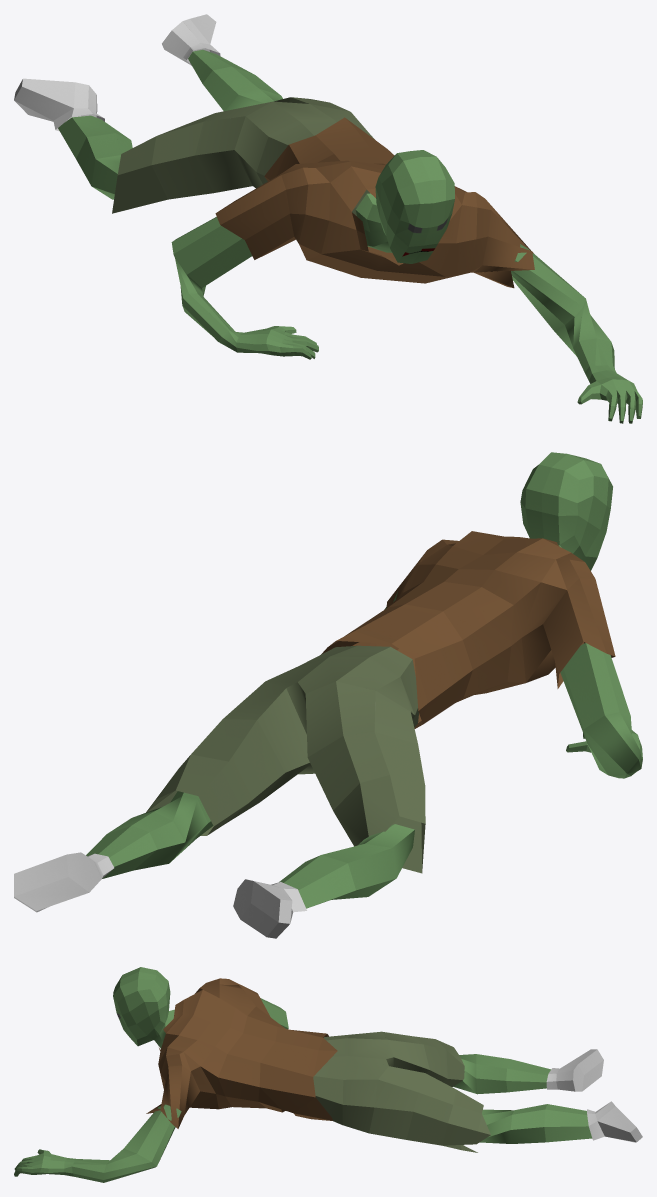
Rendered from ZombieCrawl(122).obj.
The picture shows the model from 3 angles, top to bottom: view 1: azimuth 30°, elevation 25°; view 2: azimuth 150°, elevation 25°; view 3: azimuth 270°, elevation 25°; orthographic projection. The views are drawn at different scales.
Parts seen in each view (by area): view 1: Object001; view 2: Object001; view 3: Object001.
Boxes of the visible parts, x1,y1,x2,y2 form: Object001: (14,14,642,423); Object001: (14,452,642,938); Object001: (14,967,642,1182).
Size of the model in its own units: 29.01 by 20.16 by 70.6.
